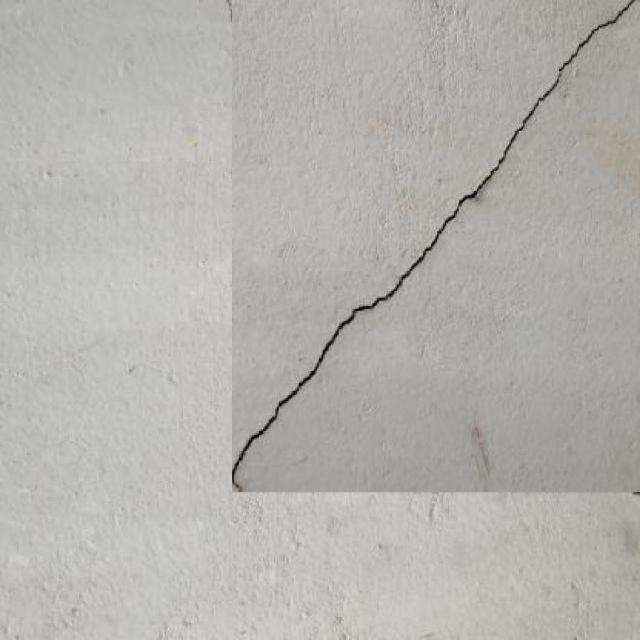diagonal crack: (232, 1, 640, 490)
